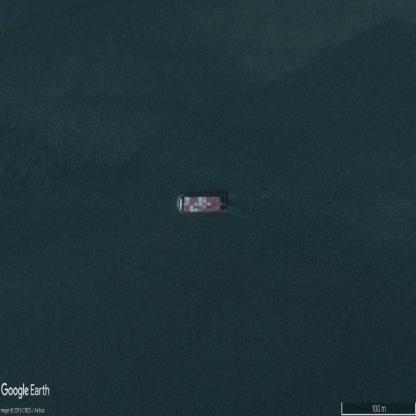ship: (177, 191, 227, 217)
